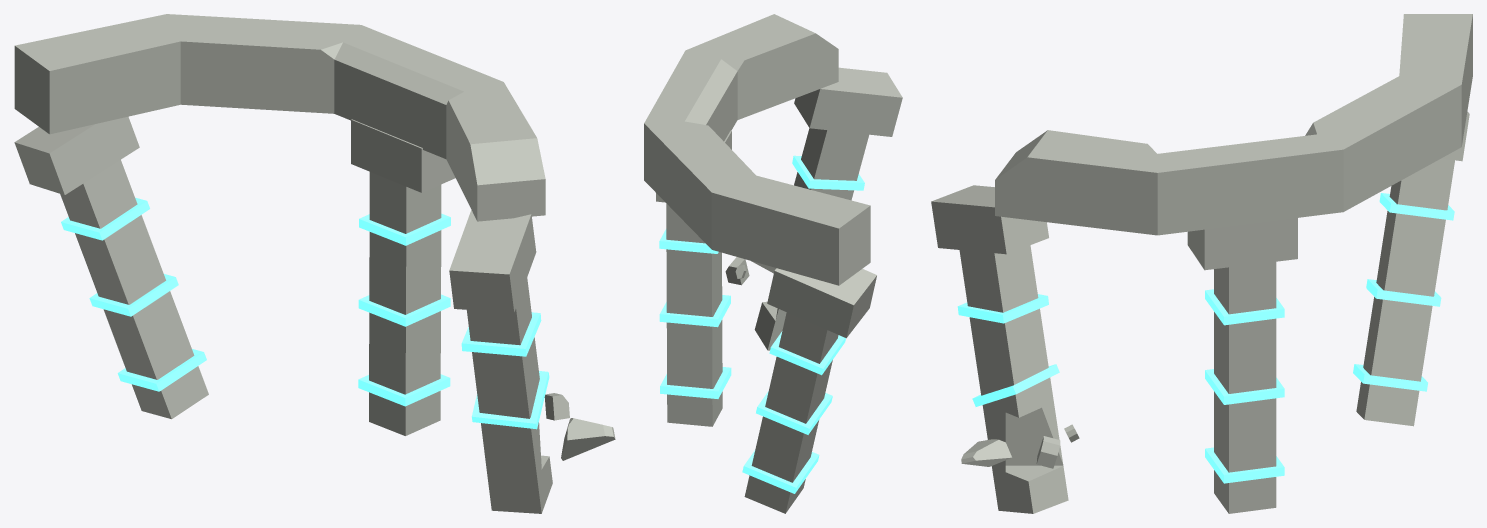
File: Ruine_7.fbx
The picture shows the model from 3 angles, left to right: view 1: azimuth 30°, elevation 25°; view 2: azimuth 150°, elevation 25°; view 3: azimuth 270°, elevation 25°; orthographic projection. The views are drawn at different scales.
Visible parts, largest first — view 1: Ruine 1.001; view 2: Ruine 1.001; view 3: Ruine 1.001.
Part boxes in pixels (<box>): Ruine 1.001: <box>14,14,615,513</box>; Ruine 1.001: <box>644,14,902,513</box>; Ruine 1.001: <box>931,14,1472,513</box>.
Size of the model in its own units: 393 by 386 by 526.
